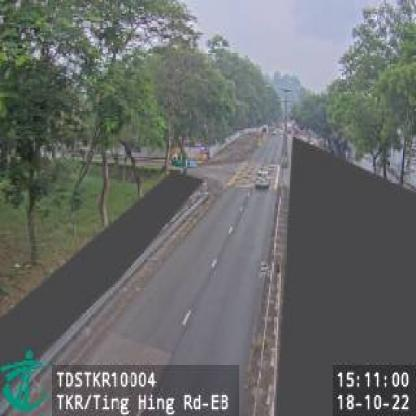Car: (256, 165, 273, 190)
